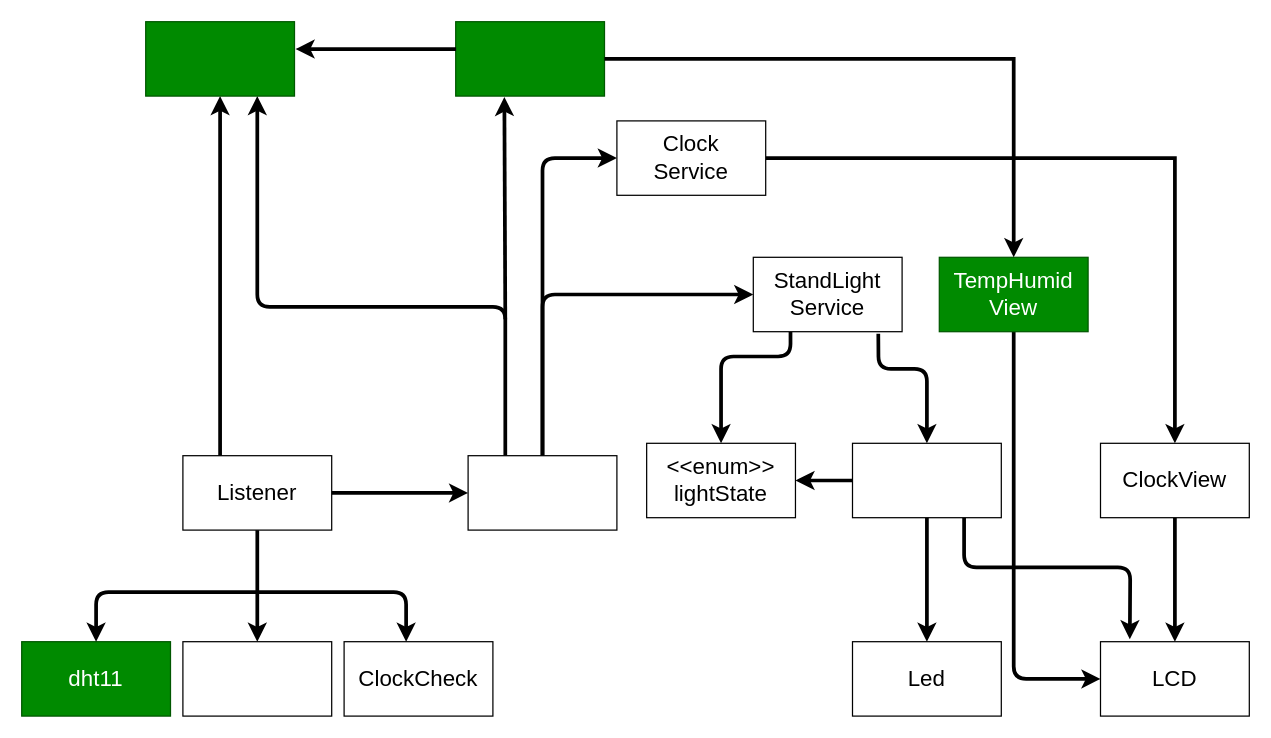
This 1271x738 diagram has some shape labels left out. The centre of each missing label's shape, as x and y in pixels:
"Button" goes at point (257, 678).
"Controller" goes at point (542, 492).
"DhtData" goes at point (219, 58).
"LightView" goes at point (926, 480).
"TempHumid Service" goes at point (529, 58).
